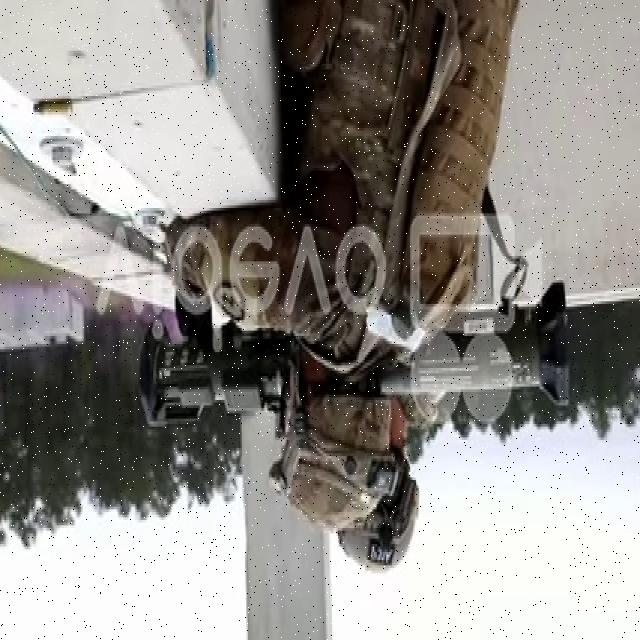bazooka: (139, 269, 580, 444)
